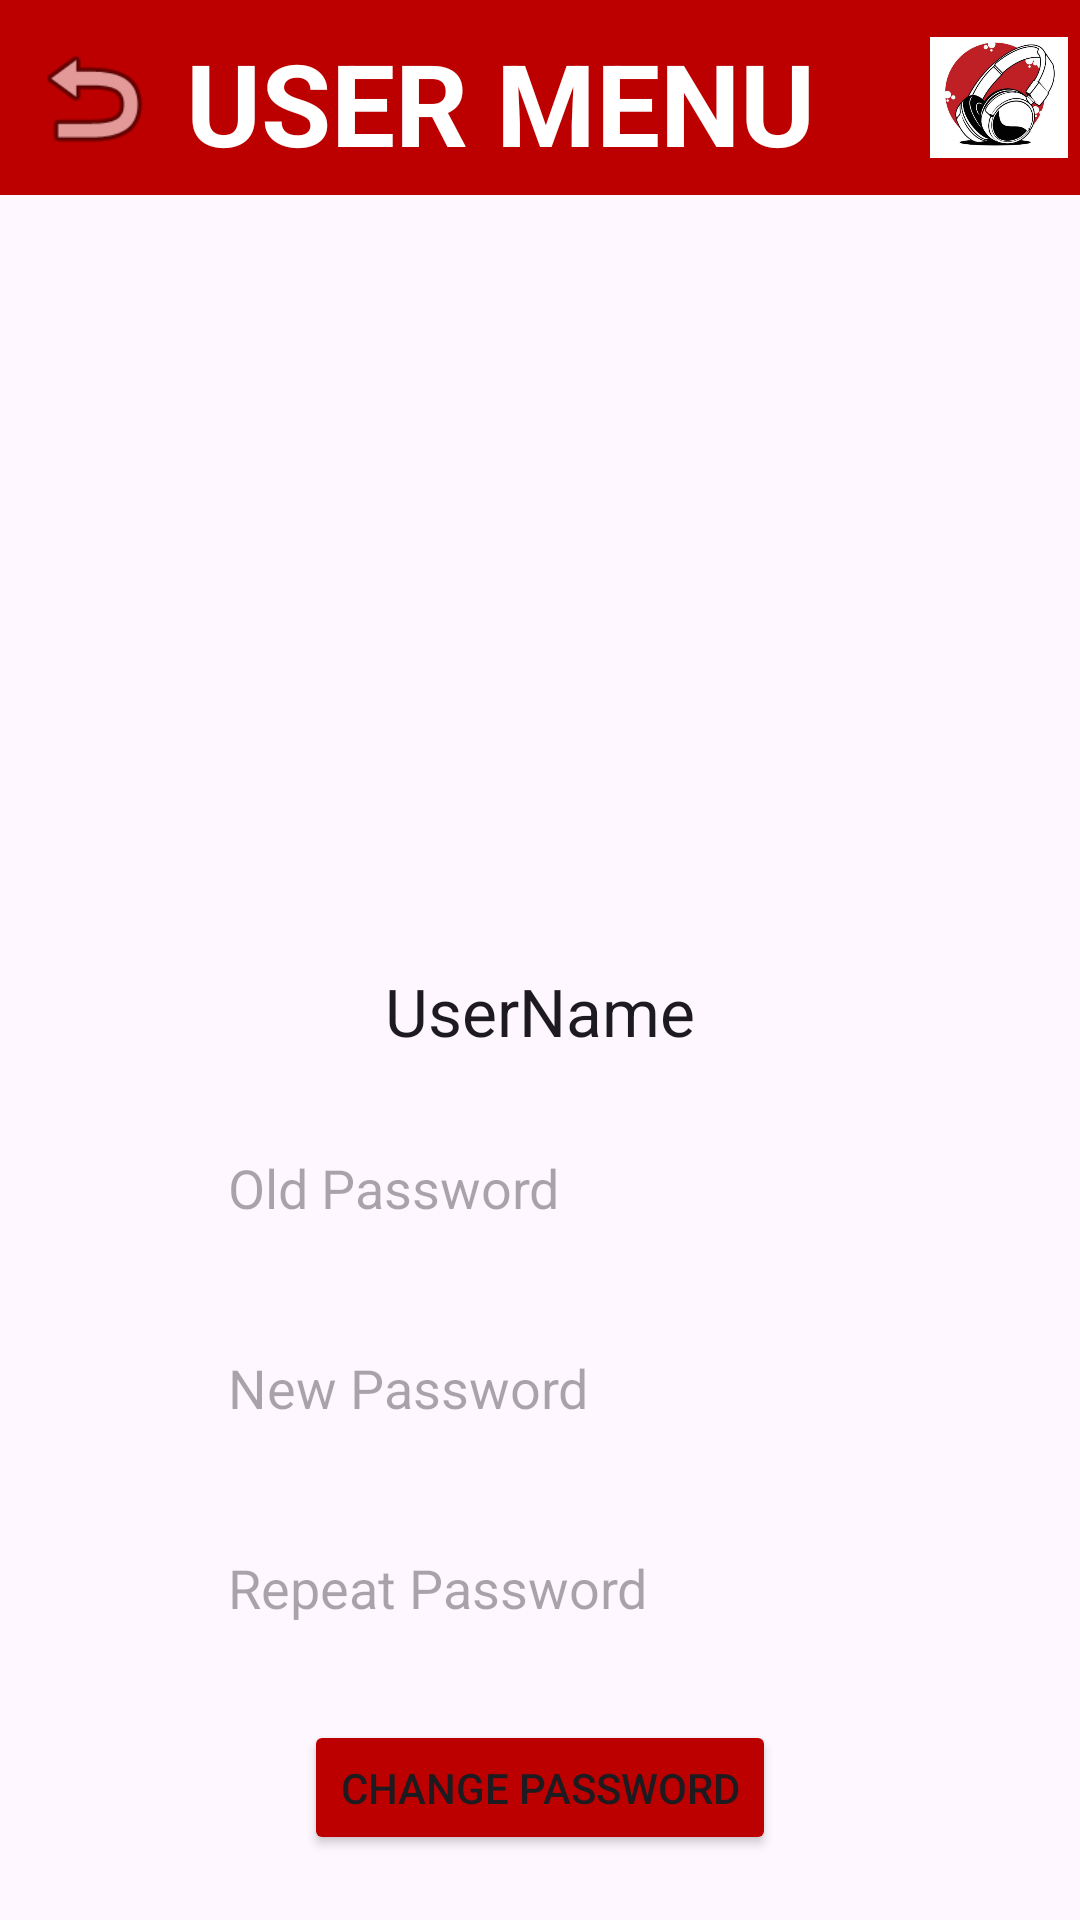

Locate icon controls on the screen. Image size 1080 x 1920, boxes as box(x1, y1, x2, y2).
revert: box(47, 56, 142, 142)
